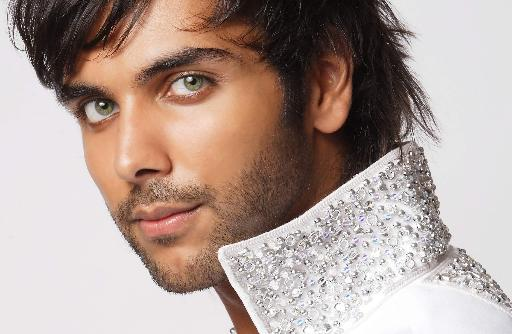left_eye: (159, 69, 226, 101)
left_lip_corner: (185, 199, 213, 217)
right_eye: (73, 95, 121, 125)
right_lip_corner: (130, 215, 150, 227)
